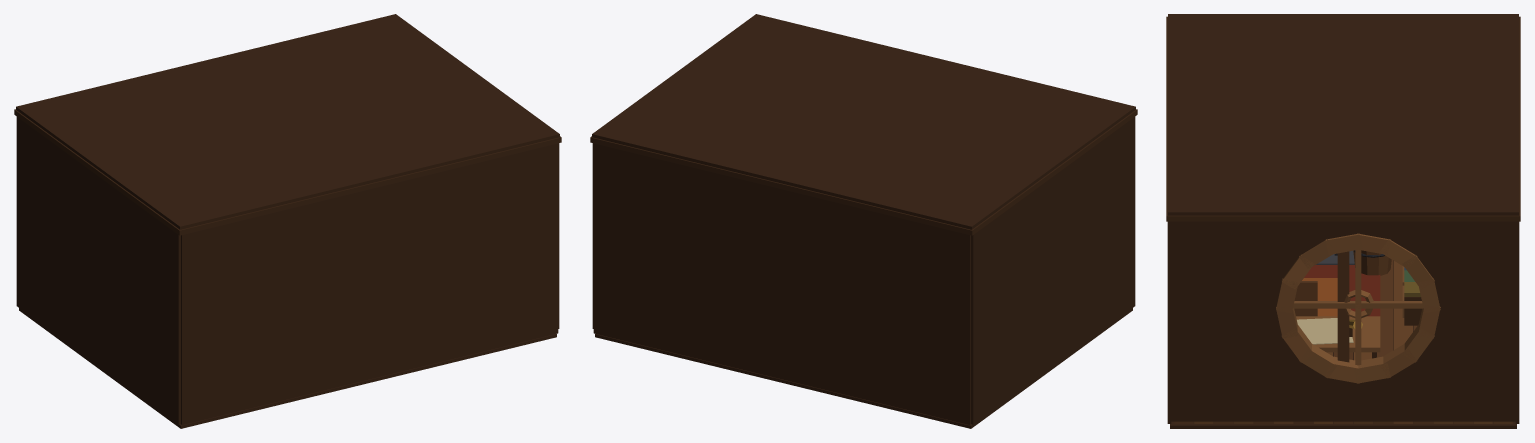
Rendered from cabin_b.glb.
3 views of the same model, side by side, from view 1: azimuth 30°, elevation 25°; view 2: azimuth 150°, elevation 25°; view 3: azimuth 270°, elevation 25° (orthographic). The views are drawn at different scales.
Visible parts, largest first — view 1: cabin_b_end_wall_lining40_-1, cabin_b_ceiling_lining40, cabin_b_solid_wall_lining40, cabin_b_ceiling, cabin_b_floor_lining40; view 2: cabin_b_end_wall_lining40_1, cabin_b_ceiling_lining40, cabin_b_solid_wall_lining40, cabin_b_ceiling, cabin_b_floor_lining40; view 3: cabin_b_ceiling_lining40, cabin_b_window_wall_lining40, cabin_b_ceiling, cabin_b_floor_lining40, cabin_b_post_R1, cabin_b_chart_table_top, cabin_b_rug, cabin_b_floor_plank_10, cabin_b_porthole_bar_h, cabin_b_floor_plank_11, cabin_b_chart, cabin_b_porthole_bar_v (+23 smaller).
Part boxes in pixels (x1,y1,x2,y2): cabin_b_end_wall_lining40_-1: (181, 143, 558, 424); cabin_b_ceiling_lining40: (16, 14, 559, 229); cabin_b_solid_wall_lining40: (16, 117, 180, 424); cabin_b_ceiling: (14, 109, 561, 235); cabin_b_floor_lining40: (19, 308, 556, 428); cabin_b_end_wall_lining40_1: (593, 143, 970, 424); cabin_b_ceiling_lining40: (592, 14, 1135, 229); cabin_b_solid_wall_lining40: (971, 117, 1135, 424); cabin_b_ceiling: (590, 109, 1137, 235); cabin_b_floor_lining40: (595, 308, 1132, 428); cabin_b_ceiling_lining40: (1168, 14, 1518, 215); cabin_b_window_wall_lining40: (1170, 221, 1516, 421); cabin_b_ceiling: (1166, 16, 1520, 221); cabin_b_floor_lining40: (1170, 260, 1516, 428); cabin_b_post_R1: (1337, 251, 1349, 362); cabin_b_chart_table_top: (1296, 316, 1380, 352); cabin_b_rug: (1304, 265, 1380, 316); cabin_b_floor_plank_10: (1374, 259, 1392, 423); cabin_b_porthole_bar_h: (1293, 301, 1423, 308); cabin_b_floor_plank_11: (1393, 261, 1412, 423); cabin_b_chart: (1297, 318, 1353, 344); cabin_b_porthole_bar_v: (1355, 250, 1361, 365).
Bounding box in the file's own units: 6.42 × 3.26 × 4.8.
